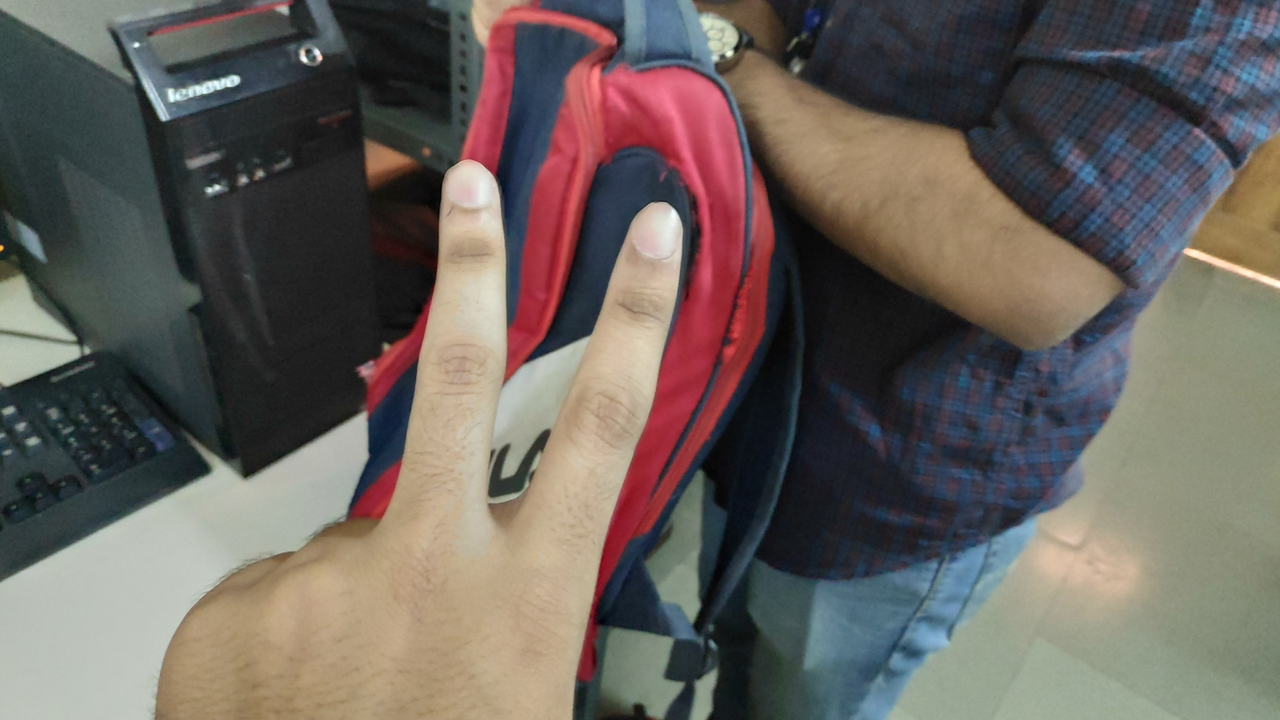fingertip: (431, 149, 511, 219), (612, 194, 682, 268)
